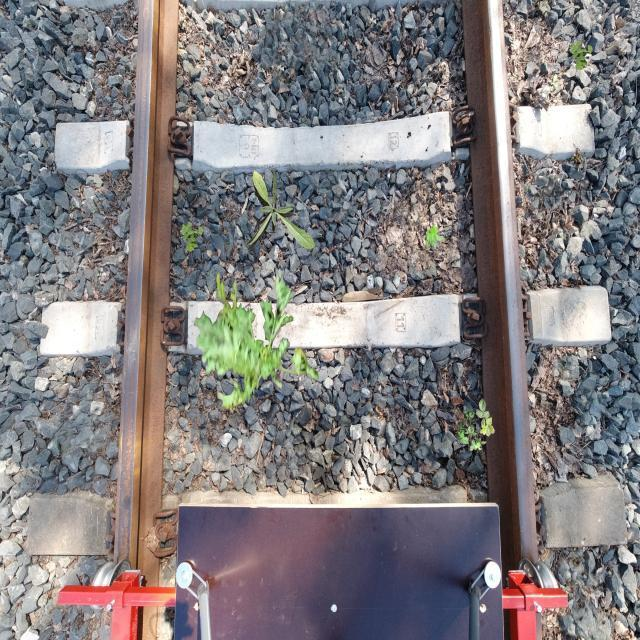Plant: (194, 269, 319, 416), (243, 170, 314, 251), (457, 399, 494, 454), (180, 221, 204, 252), (569, 40, 593, 70), (424, 225, 444, 250)
